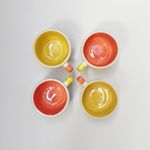cups: (75, 74, 122, 120), (30, 28, 75, 73), (31, 75, 74, 118), (76, 30, 120, 72)
